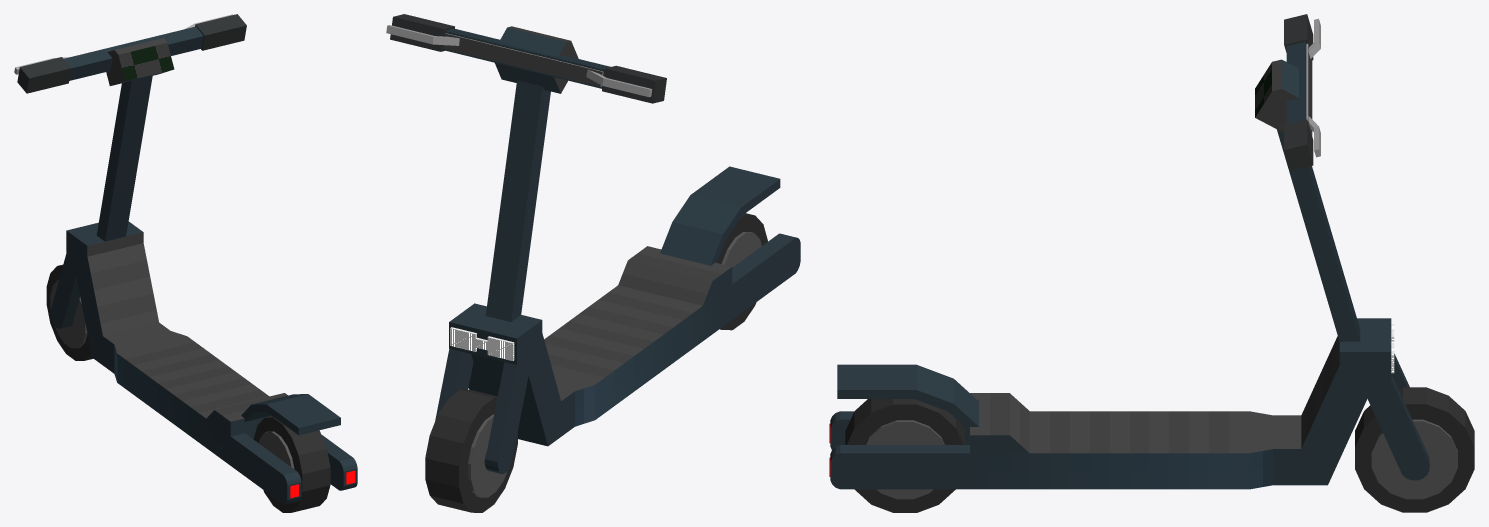
Rendered from e_scooter.glb.
3 views of the same model, side by side, from view 1: azimuth 30°, elevation 25°; view 2: azimuth 150°, elevation 25°; view 3: azimuth 270°, elevation 25° (orthographic). The views are drawn at different scales.
Visible parts, largest first — view 1: cube_81, cube_90, cube_92, cube_123, cube_93, cube_88, cube_101, cube_84, cube_91, cube_95, cube_107, cube_96 (+6 smaller); view 2: cube_81, cube_92, cube_90, cube_123, cube_107, cube_91, cube_89, cube_94, cube_88, cube_86, cube_85, cube_87 (+17 smaller); view 3: cube_81, cube_108, cube_90, cube_92, cube_84, cube_106, cube_88, cube_85, cube_91, cube_101, cube_87, cube_96 (+19 smaller).
Boxes of the visible parts, left/top/right/bottom form: cube_81: left=117, top=336, right=269, bottom=465; cube_90: left=73, top=243, right=158, bottom=357; cube_92: left=96, top=75, right=152, bottom=241; cube_123: left=230, top=433, right=296, bottom=503; cube_93: left=64, top=26, right=203, bottom=80; cube_88: left=266, top=394, right=340, bottom=435; cube_101: left=106, top=43, right=174, bottom=85; cube_84: left=92, top=322, right=179, bottom=373; cube_91: left=66, top=221, right=143, bottom=266; cube_95: left=17, top=57, right=71, bottom=93; cube_107: left=51, top=241, right=79, bottom=323; cube_96: left=195, top=14, right=246, bottom=50; cube_81: left=544, top=285, right=732, bottom=419; cube_92: left=485, top=80, right=550, bottom=321; cube_90: left=468, top=333, right=560, bottom=446; cube_123: left=732, top=234, right=795, bottom=319; cube_107: left=486, top=342, right=533, bottom=456; cube_91: left=449, top=303, right=542, bottom=364; cube_89: left=618, top=260, right=714, bottom=312; cube_94: left=443, top=33, right=603, bottom=86; cube_88: left=691, top=166, right=780, bottom=215; cube_86: left=660, top=222, right=726, bottom=265; cube_85: left=628, top=246, right=732, bottom=298; cube_87: left=672, top=195, right=741, bottom=238; cube_81: left=970, top=411, right=1249, bottom=489; cube_108: left=840, top=445, right=969, bottom=489; cube_90: left=1291, top=336, right=1367, bottom=484; cube_92: left=1277, top=129, right=1360, bottom=341; cube_84: left=1249, top=415, right=1327, bottom=485; cube_106: left=1354, top=359, right=1427, bottom=469; cube_88: left=837, top=364, right=916, bottom=398; cube_85: left=970, top=393, right=1009, bottom=453; cube_91: left=1339, top=318, right=1391, bottom=378; cube_101: left=1255, top=62, right=1288, bottom=132; cube_87: left=913, top=365, right=953, bottom=411; cube_96: left=1284, top=119, right=1313, bottom=170.
Bounding box in the file's own units: 0.9688 × 1.49 × 2.02.
Materials: 3 (3 with a texture image).
